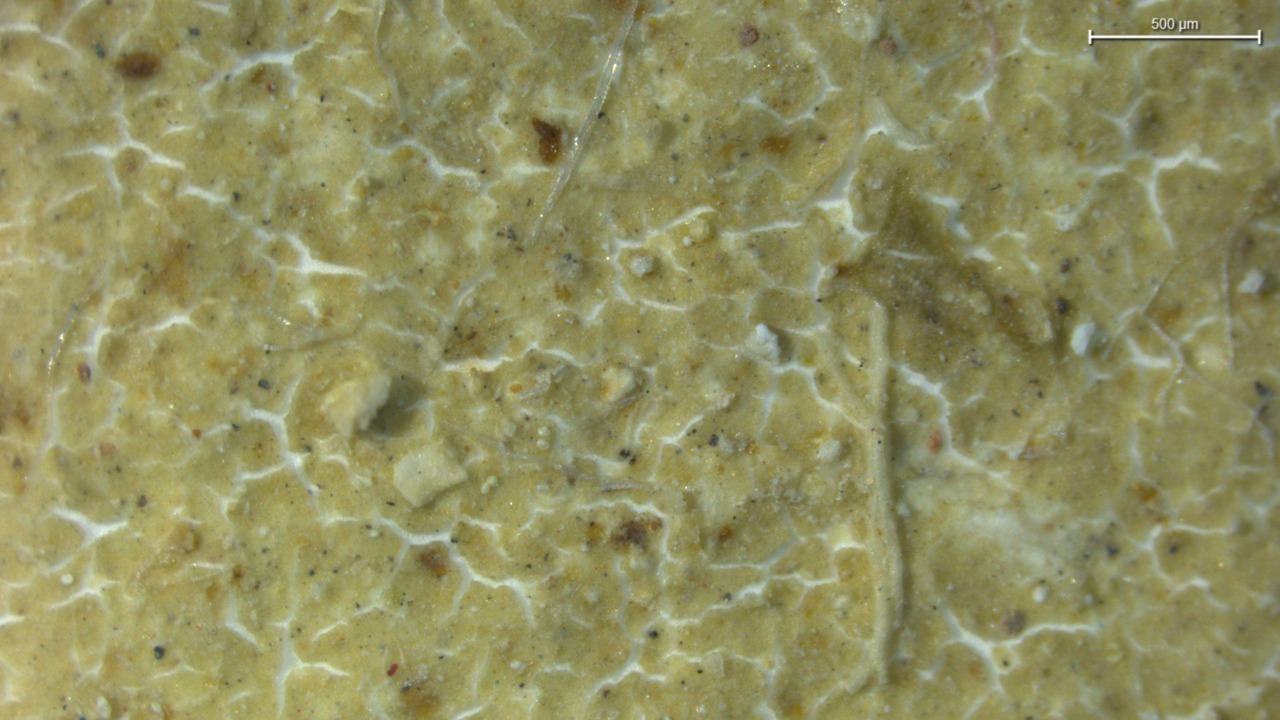microplastic_fragment: (393, 442, 469, 510), (320, 374, 394, 439), (1072, 322, 1095, 358)
